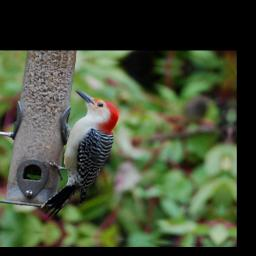Woodpecker: (36, 87, 123, 225)
